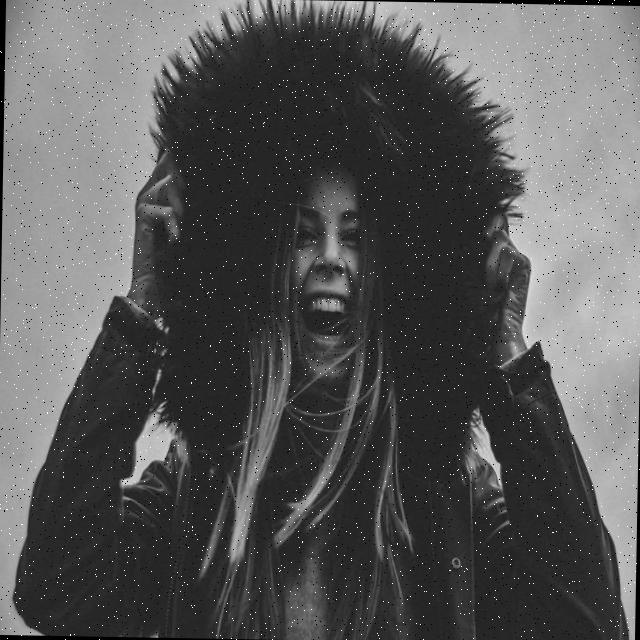Happiness: (277, 161, 373, 385)
